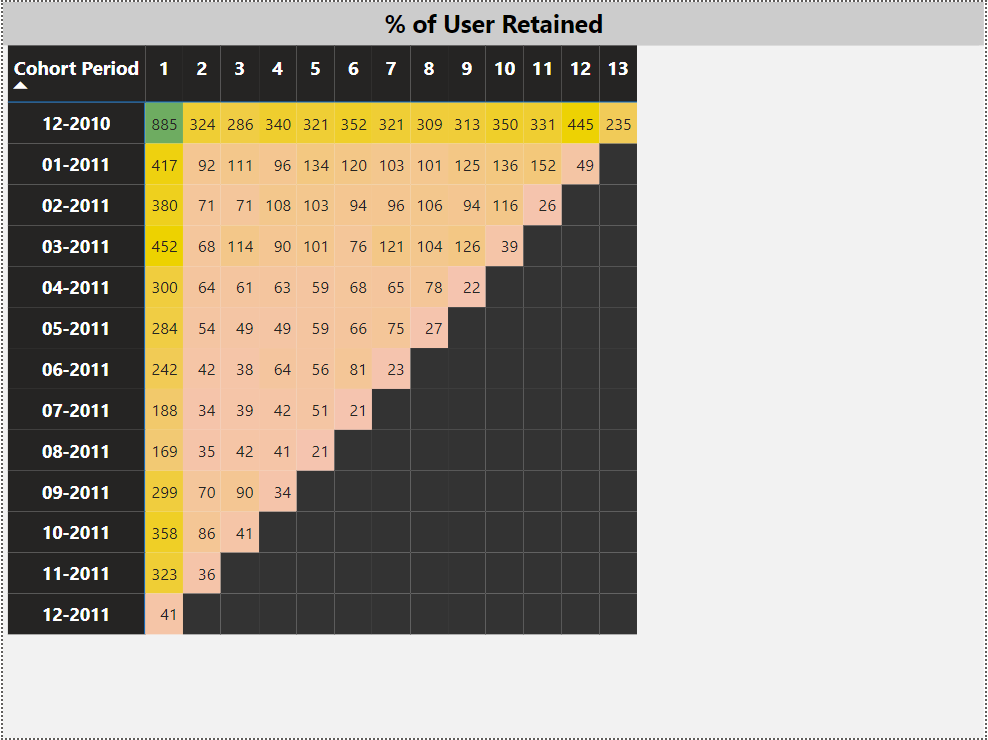

Layout of this report page (visuals, bound fields, positions):
{"tool":"powerbi","page":{"name":"User Retention","canvas":[960,720],"ordinal":1},"visuals":[{"type":"pivotTable","title":"% of User Retained","fields":{"Rows":["cohort_user_retention.cohort"],"Columns":["cohort_user_retention.cohort_index"],"Values":["cohort_user_retention.Customer Count"]},"box":[0,0,959.6,720],"z":0}]}

Visuals, with their boxes in screenshot pixels (x1, y1, x2, y2), scaled from the page's 960x720 canvas onto the 988x740 screenshot:
"% of User Retained" pivotTable: 0 0 987 739
